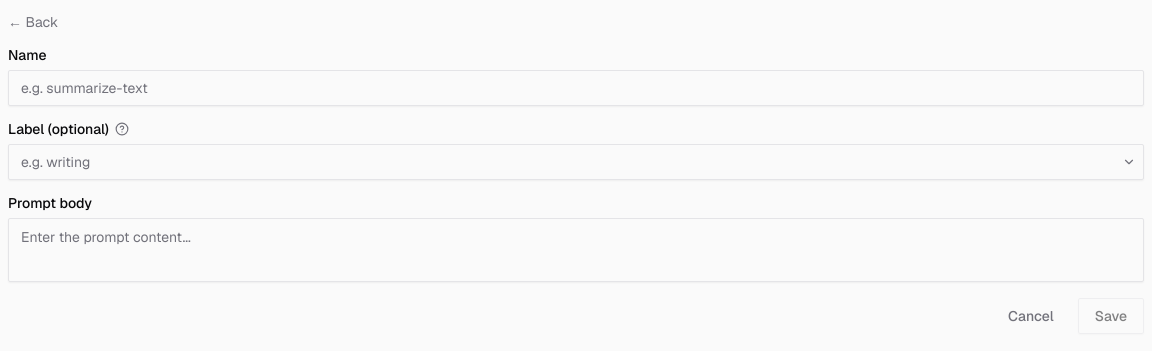
Test case: PromptForm › should close combobox on Tab and move focus to the next field
Step 1. Click the dropdown labelled "Label (optional)" → (576, 162), box [8,144,1144,180]
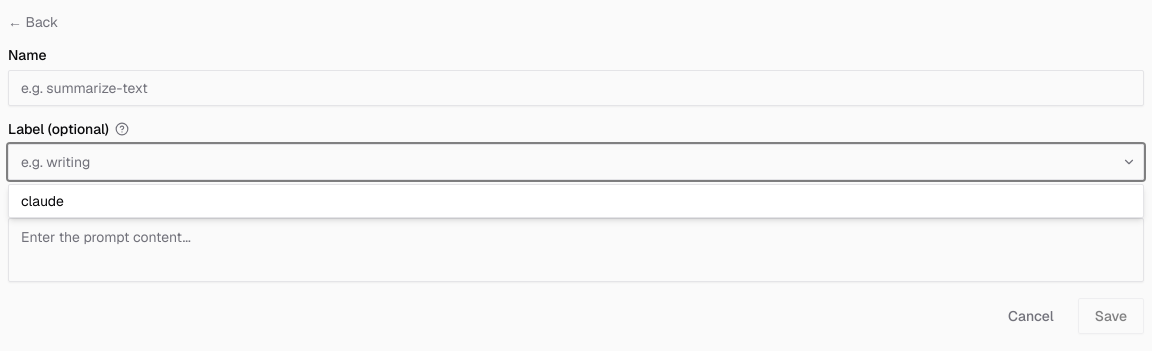
Now the option "claude" is shown, box [21,192,64,210]
Step 2. Press Tab
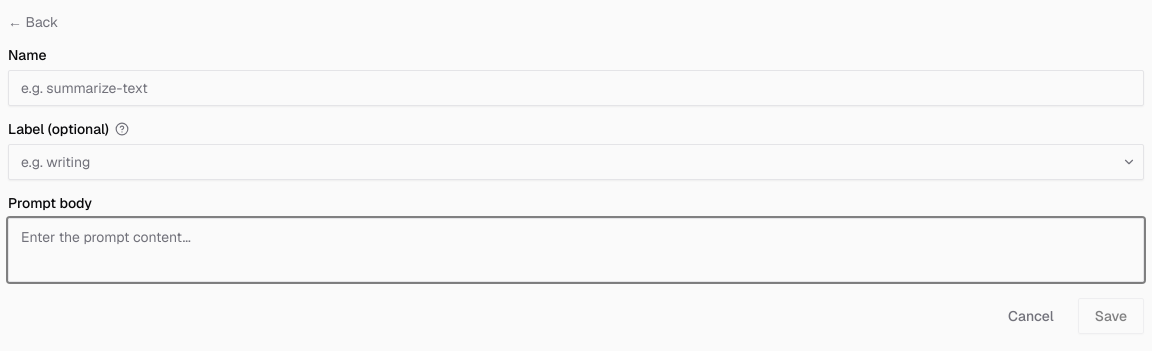
Now the option "claude" is gone
